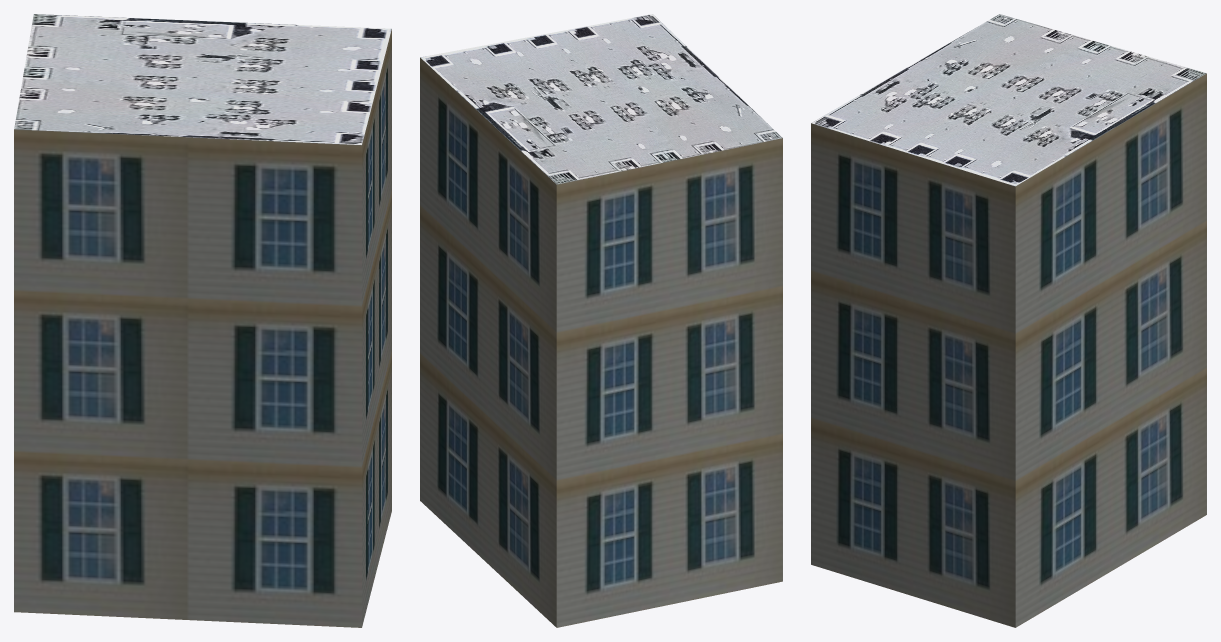
The model's file is ResTex__4460.fbx.
3 renders of one model, left to right at view 1: azimuth 30°, elevation 25°; view 2: azimuth 150°, elevation 25°; view 3: azimuth 270°, elevation 25°, orthographic. The views are drawn at different scales.
Parts seen in each view (by area): view 1: CityEngineMaterial_7_m, CityEngineMaterial_4_m; view 2: CityEngineMaterial_7_m, CityEngineMaterial_4_m; view 3: CityEngineMaterial_7_m, CityEngineMaterial_4_m.
Part boxes in pixels (x1,y1,x2,y2): CityEngineMaterial_7_m: (14, 29, 391, 627); CityEngineMaterial_4_m: (14, 14, 391, 144); CityEngineMaterial_7_m: (420, 57, 782, 627); CityEngineMaterial_4_m: (420, 14, 782, 184); CityEngineMaterial_7_m: (811, 73, 1206, 627); CityEngineMaterial_4_m: (811, 14, 1206, 186).
Size of the model in its own units: 7.54 by 9 by 7.31.
2 materials, 2 textured.
